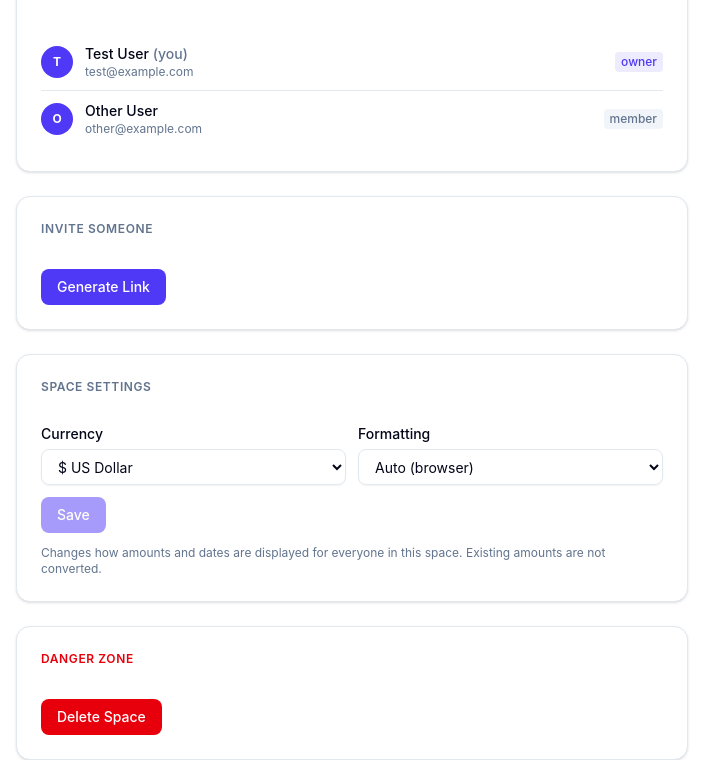
Test: SpacesPage › shows inline delete confirmation when Delete Space is clicked
The width and height of the screenshot is (705, 760).
(page scrolled)
Click the button "Delete Space" at (101, 717), box [41,699,162,735]
(page scrolled)
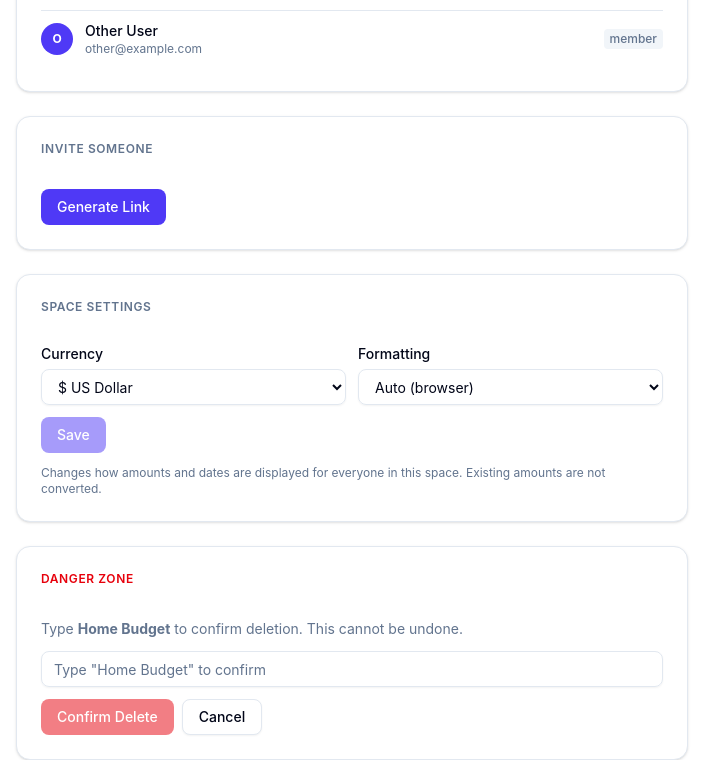
Now the field with placeholder "Type \"Home Budget\" to confirm" is shown, box [41,651,663,687]
